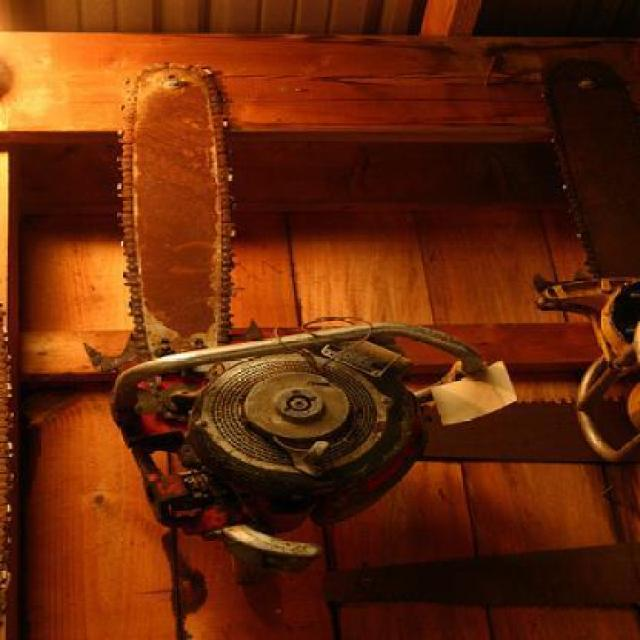Chainsaw: (107, 61, 519, 574)
